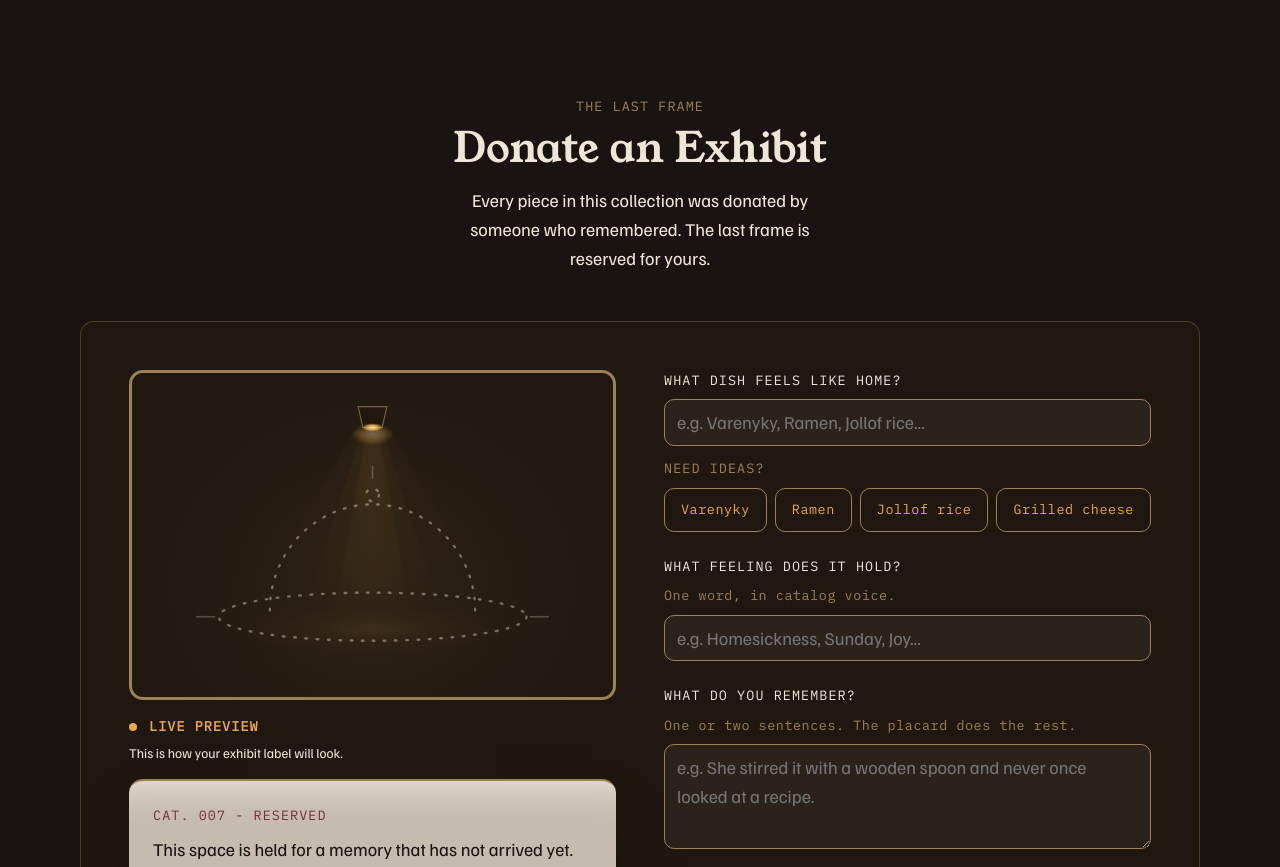
Test: donation inks the frame and announces the exhibit
In the field labelled "What dish feels like home?": (908, 423) 664,399 -> 1151,446, type "Rice pudding"
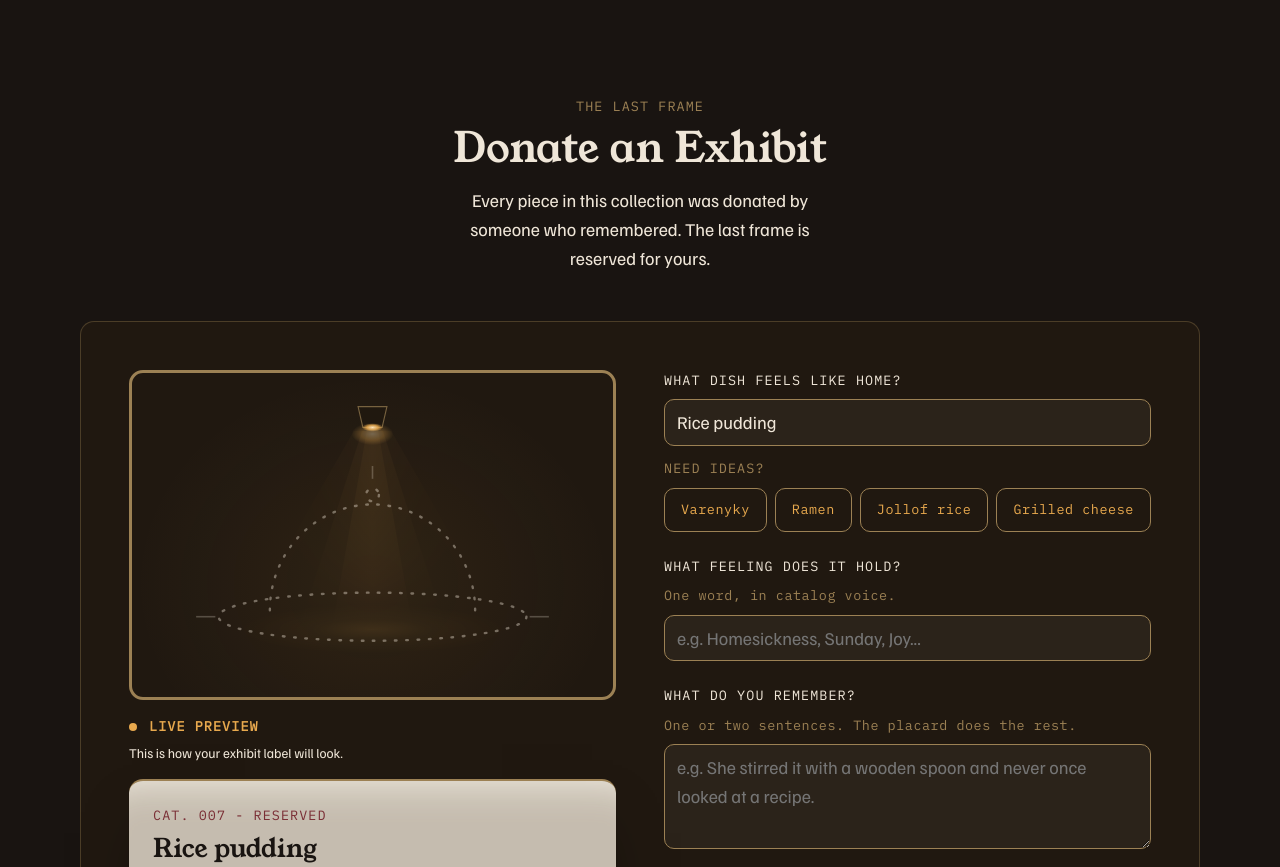
In the field labelled "What feeling does it hold?": (908, 638) 664,615 -> 1151,661, type "Quiet evenings"
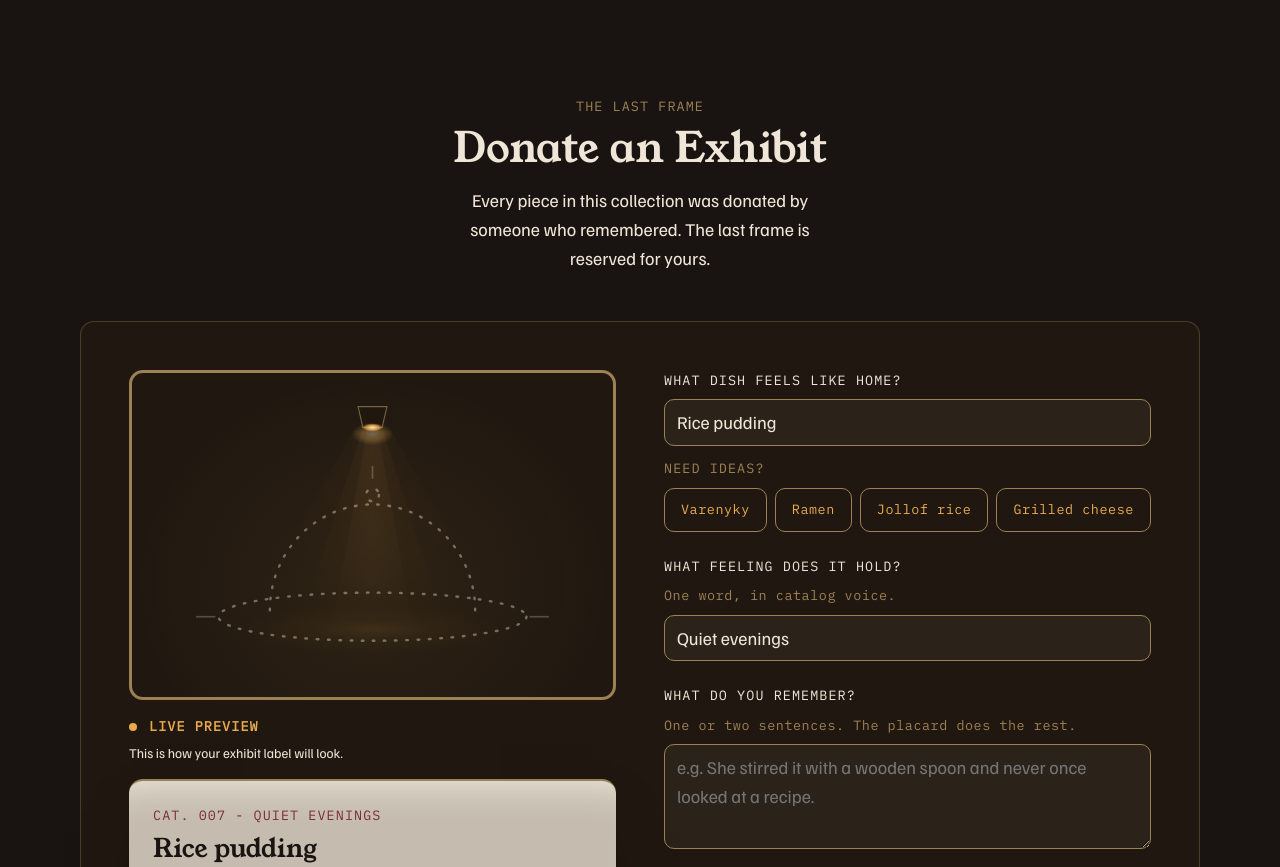
Replace the text in the text box labelled "What do you remember?" with "Stirred with a wooden spoon, never a recipe in sight.": (908, 797) 664,744 -> 1151,849
(page scrolled)
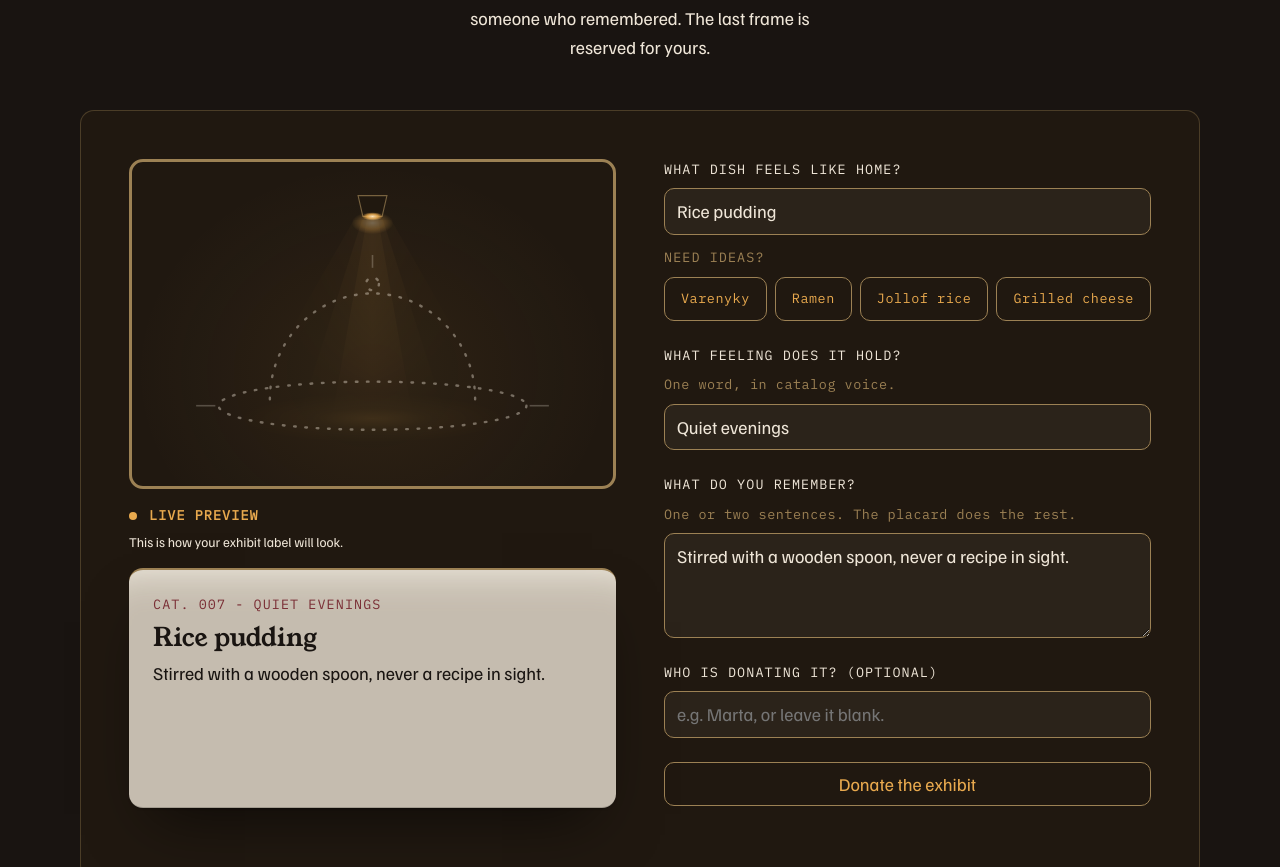
Submit the form, box 664,159 -> 1151,806
(page scrolled)
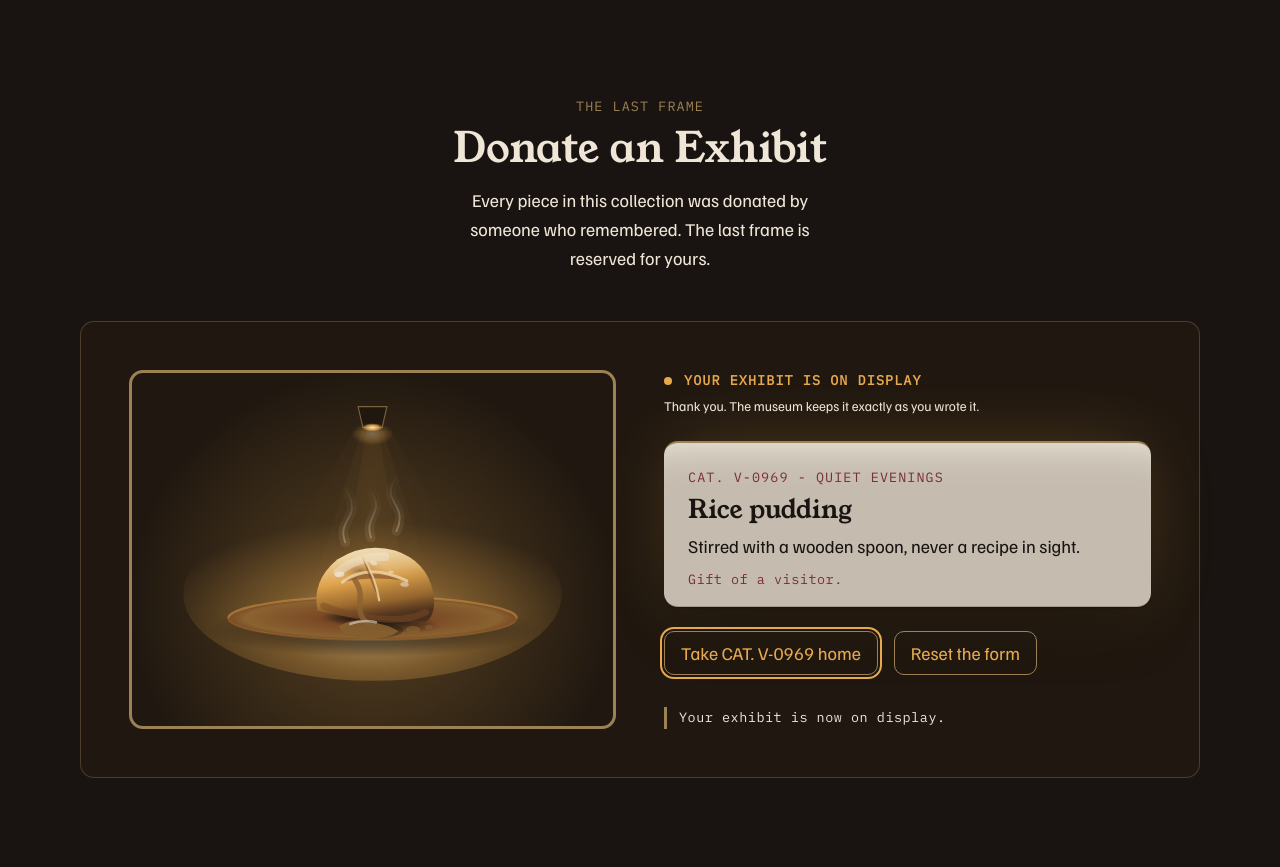
Expected: the element that starts with "CAT. V-0969 - QUIET EVENINGS" shows "Gift of a visitor.", 664,441 -> 1151,607
